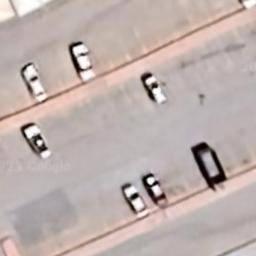pickup: (21, 124, 52, 160), (144, 73, 164, 103)
sedan: (22, 64, 49, 104), (122, 183, 150, 220), (72, 42, 95, 82), (144, 172, 170, 206)
